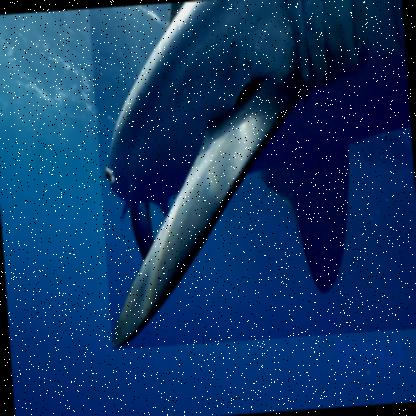mako-shark: (86, 0, 415, 352)
